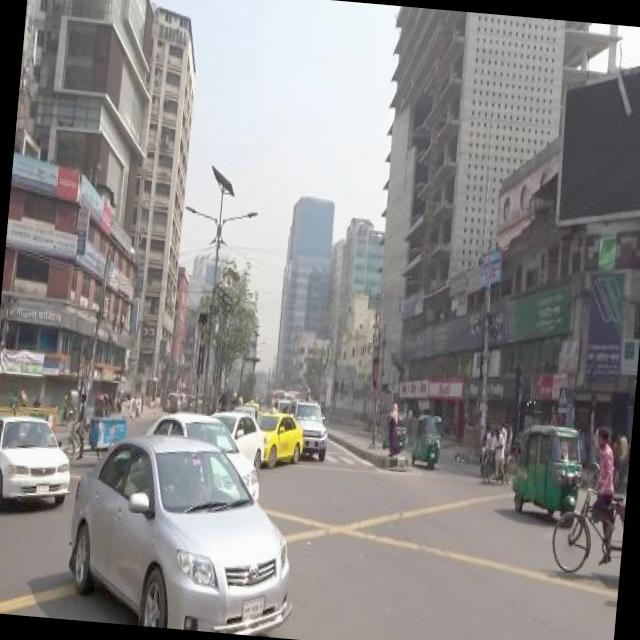car: (56, 420, 310, 638), (137, 404, 266, 502), (0, 409, 73, 510), (203, 406, 267, 468), (252, 402, 306, 468), (230, 402, 260, 416), (241, 395, 261, 415), (271, 396, 292, 414)
motorcycle: (547, 408, 629, 600), (507, 416, 586, 530), (56, 387, 134, 473), (480, 421, 514, 486), (408, 409, 443, 469), (381, 400, 408, 450), (213, 392, 230, 412), (166, 392, 177, 415)
truck: (282, 392, 331, 461), (163, 388, 180, 409)
